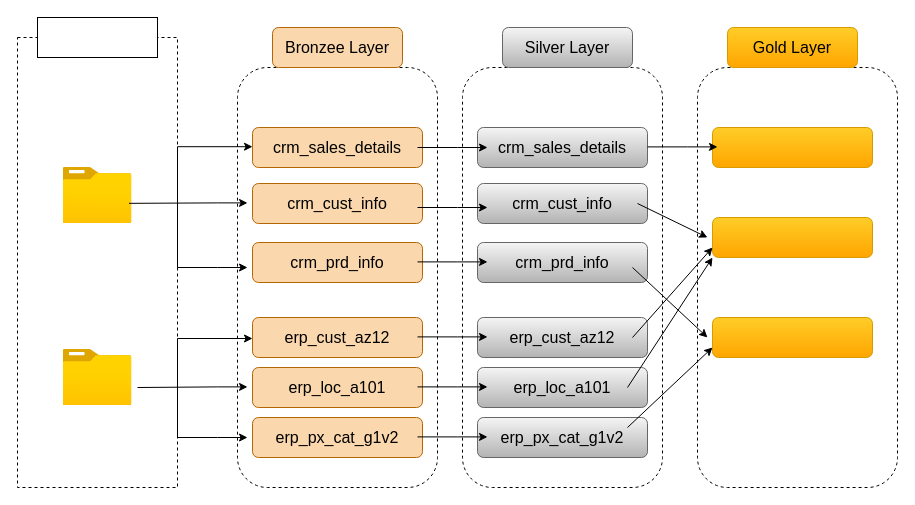
The diagram is 915 pixels wide and 505 high, and some of its shapes have lost their labels. Here are the shapes that lost their labels. From the top down, the box of each, then its label:
(36, 16, 158, 58): Data Sources
(712, 126, 872, 168): Fact_Sales
(62, 167, 132, 223): CRM
(712, 216, 872, 258): Dim_customers
(712, 316, 872, 358): Dim_Products
(62, 349, 132, 405): ERP
